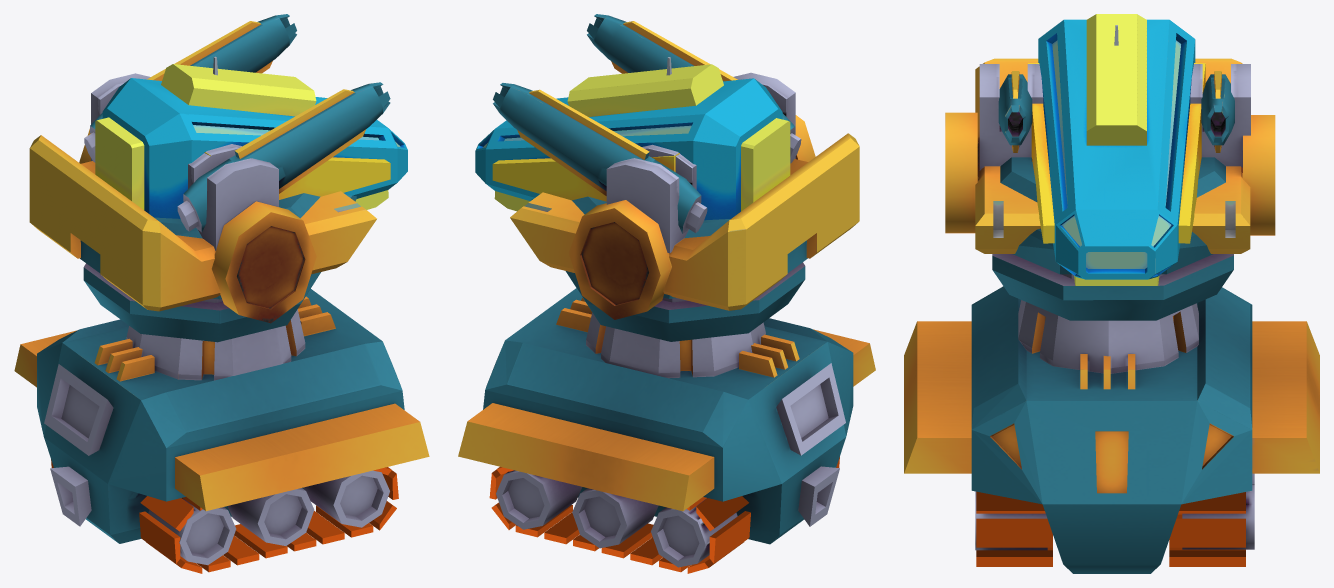
Rendered from Player_Idle_1_Upgrade14.obj.
The picture shows the model from 3 angles, left to right: view 1: azimuth 30°, elevation 25°; view 2: azimuth 150°, elevation 25°; view 3: azimuth 270°, elevation 25°; orthographic projection. The views are drawn at different scales.
Parts seen in each view (by area): view 1: Object008, Object014, Box009, Box017; view 2: Object008, Object014, Box009, Box016; view 3: Object008, Box016, Box017, Object014, Box009.
Part boxes in pixels (x1,y1,x2,y2): Object008: [14, 64, 429, 543]; Object014: [84, 14, 390, 232]; Box009: [148, 470, 389, 565]; Box017: [139, 467, 398, 573]; Object008: [458, 64, 875, 544]; Object014: [493, 14, 801, 233]; Box009: [496, 470, 737, 567]; Box016: [489, 467, 750, 573]; Object008: [904, 14, 1319, 573]; Box016: [1169, 492, 1245, 566]; Box017: [976, 491, 1052, 566]; Object014: [998, 71, 1234, 152]; Box009: [975, 473, 1254, 550].
Bounding box in the file's own units: 65.77 × 85.79 × 66.14.
4 materials, 2 textured.
